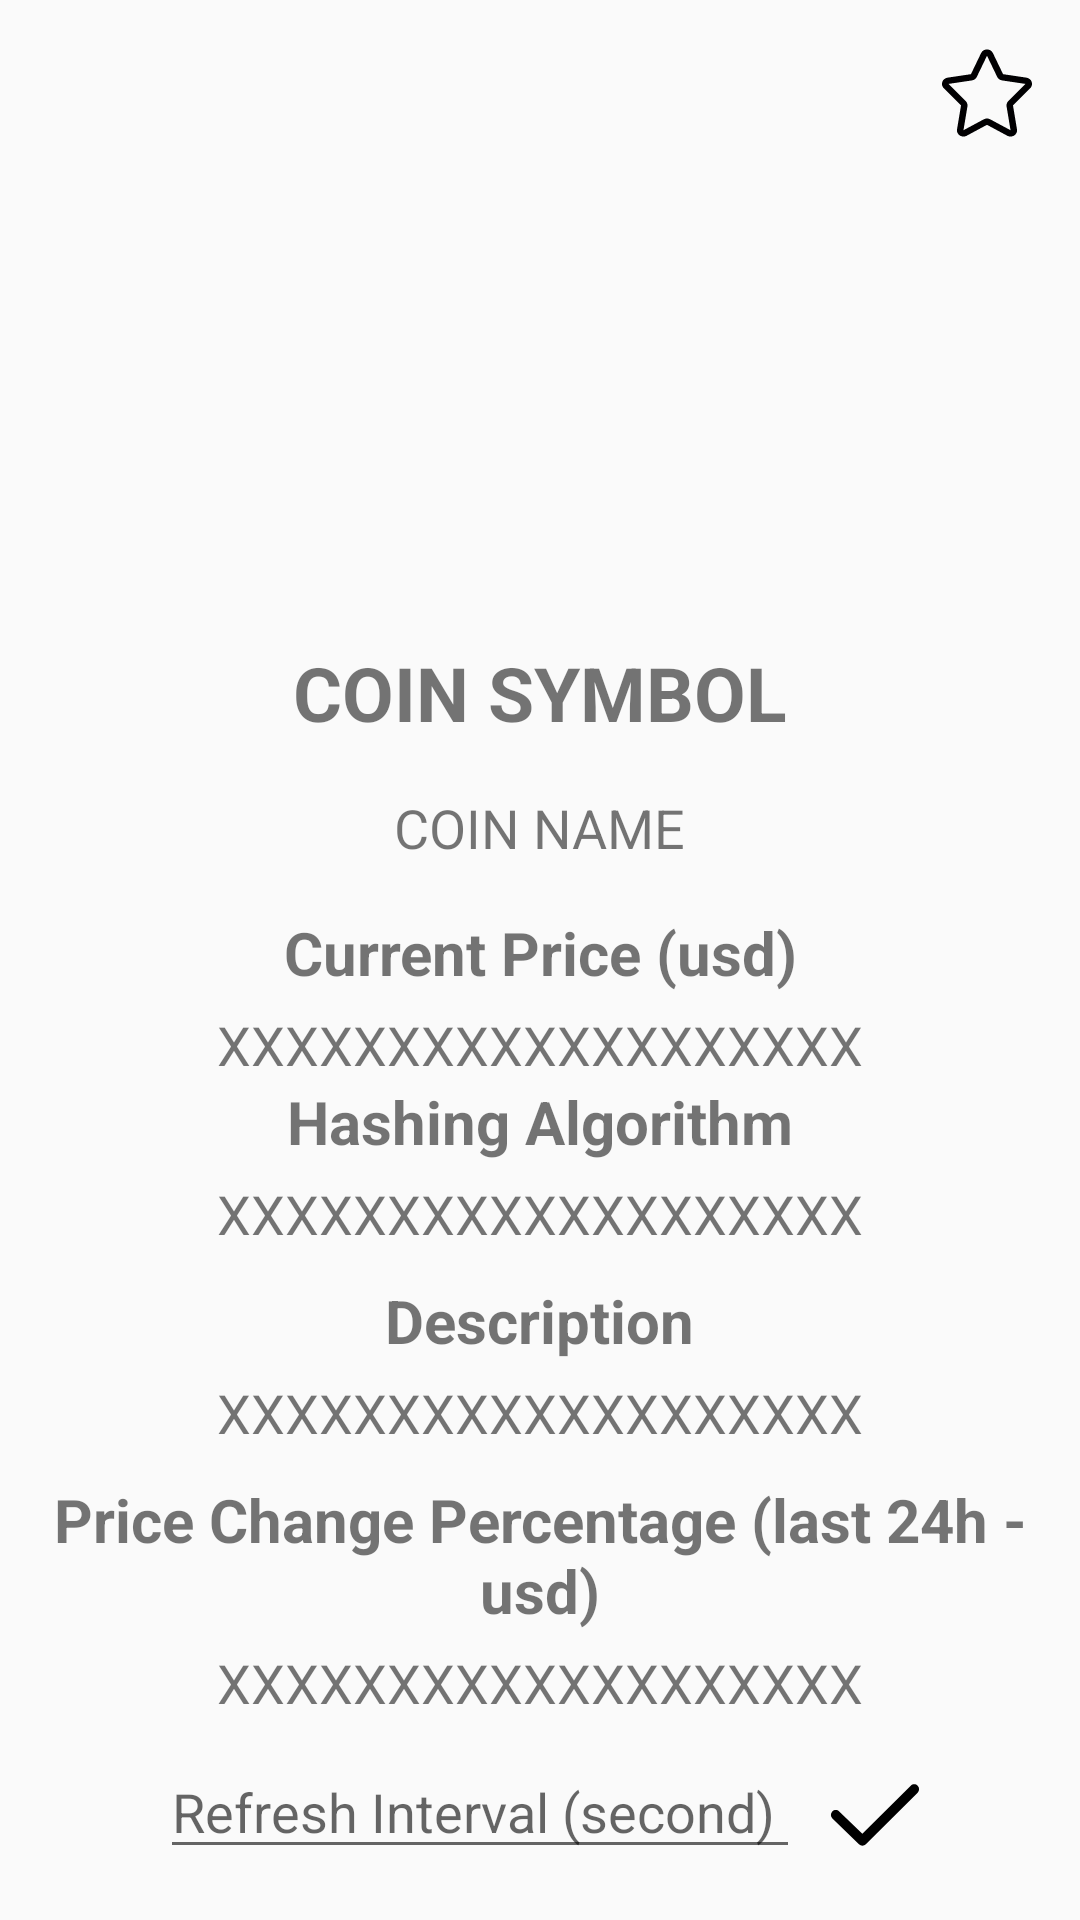

Named icons in this screenshot (1080*1920) and their centers, [x,y]:
star: [987,93]
